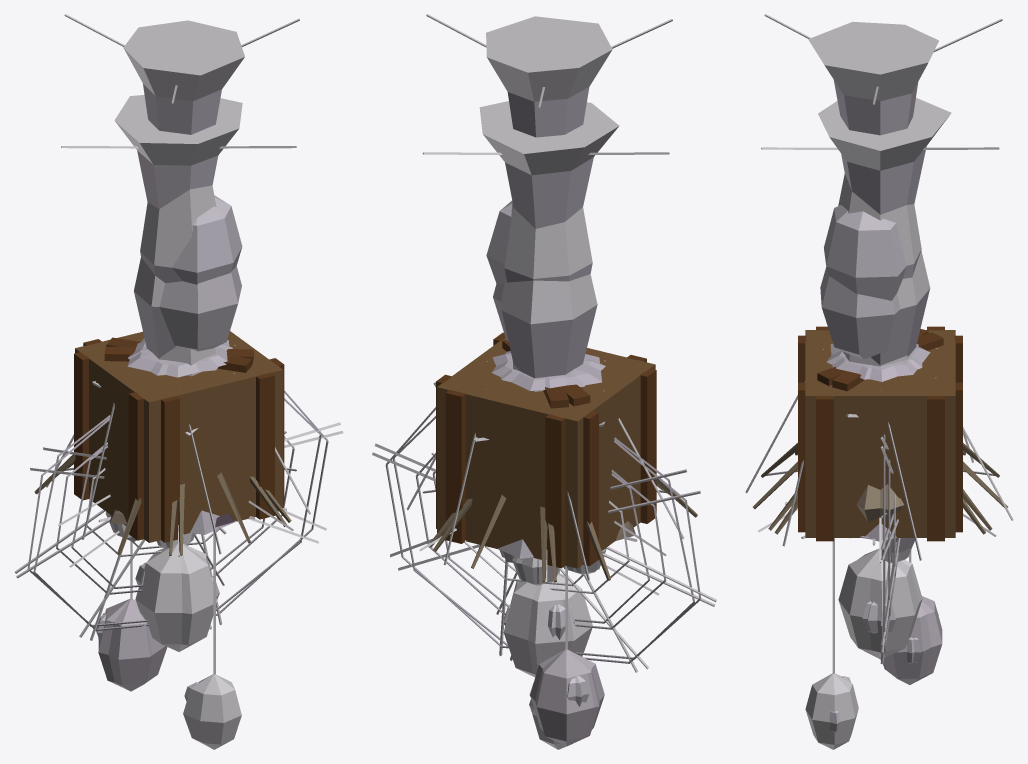
File: nests.glb
The picture shows the model from 3 angles, left to right: view 1: azimuth 30°, elevation 25°; view 2: azimuth 150°, elevation 25°; view 3: azimuth 270°, elevation 25°; orthographic projection. The views are drawn at different scales.
Parts seen in each view (by area): view 1: nests_webbed_crate_a, nests_web_pillar_b, nests_web_pillar_a, nests_hanging_egg_sacs_b, nests_hanging_egg_sacs_a, nests_web_sheet_a, nests_web_sheet_b, nests_webbed_crate_b, nests_shed_exoskeleton_a, nests_wall_eggs_a, nests_shed_exoskeleton_b; view 2: nests_webbed_crate_a, nests_web_pillar_a, nests_web_pillar_b, nests_hanging_egg_sacs_a, nests_hanging_egg_sacs_b, nests_web_sheet_a, nests_web_sheet_b, nests_webbed_crate_b, nests_shed_exoskeleton_a, nests_wall_eggs_a, nests_shed_exoskeleton_b; view 3: nests_webbed_crate_a, nests_web_pillar_b, nests_web_pillar_a, nests_hanging_egg_sacs_b, nests_hanging_egg_sacs_a, nests_shed_exoskeleton_a, nests_webbed_crate_b, nests_web_sheet_a, nests_shed_exoskeleton_b.
Boxes of the visible parts, left/top/right/bottom form: nests_webbed_crate_a: left=46, top=331, right=284, bottom=554; nests_web_pillar_b: left=58, top=14, right=299, bottom=534; nests_web_pillar_a: left=61, top=95, right=296, bottom=556; nests_hanging_egg_sacs_b: left=96, top=531, right=241, bottom=749; nests_hanging_egg_sacs_a: left=97, top=541, right=219, bottom=691; nests_web_sheet_a: left=16, top=390, right=343, bottom=637; nests_web_sheet_b: left=14, top=398, right=340, bottom=640; nests_webbed_crate_b: left=82, top=340, right=310, bottom=539; nests_shed_exoskeleton_a: left=34, top=454, right=291, bottom=555; nests_wall_eggs_a: left=69, top=431, right=286, bottom=585; nests_shed_exoskeleton_b: left=63, top=462, right=286, bottom=555; nests_webbed_crate_a: left=407, top=332, right=656, bottom=580; nests_web_pillar_a: left=422, top=101, right=669, bottom=582; nests_web_pillar_b: left=419, top=14, right=672, bottom=555; nests_hanging_egg_sacs_a: left=503, top=565, right=604, bottom=746; nests_hanging_egg_sacs_b: left=503, top=570, right=599, bottom=749; nests_web_sheet_a: left=372, top=382, right=715, bottom=669; nests_web_sheet_b: left=375, top=416, right=716, bottom=672; nests_webbed_crate_b: left=443, top=340, right=684, bottom=565; nests_shed_exoskeleton_a: left=429, top=476, right=697, bottom=581; nests_wall_eggs_a: left=431, top=452, right=658, bottom=614; nests_shed_exoskeleton_b: left=433, top=483, right=670, bottom=582; nests_webbed_crate_a: left=745, top=326, right=973, bottom=560; nests_web_pillar_b: left=758, top=14, right=1002, bottom=536; nests_web_pillar_a: left=761, top=98, right=999, bottom=562; nests_hanging_egg_sacs_b: left=805, top=538, right=931, bottom=749; nests_hanging_egg_sacs_a: left=838, top=549, right=942, bottom=684; nests_shed_exoskeleton_a: left=753, top=443, right=1007, bottom=534; nests_webbed_crate_b: left=782, top=329, right=1013, bottom=546; nests_web_sheet_a: left=880, top=446, right=900, bottom=664; nests_shed_exoskeleton_b: left=768, top=484, right=992, bottom=530.
Size of the model in its own units: 1.17 by 2.36 by 0.8217.
